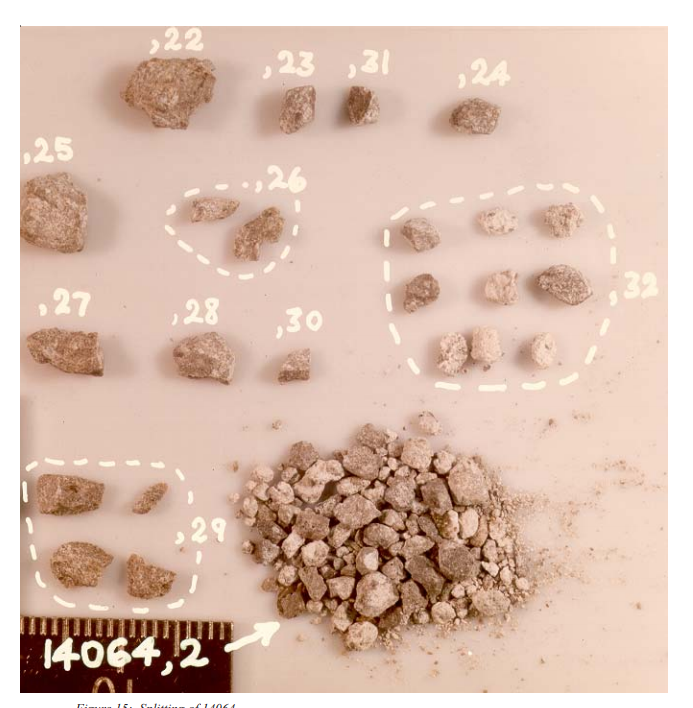Breccia: (257, 415, 545, 653), (375, 191, 618, 378), (35, 458, 202, 605), (182, 170, 305, 289), (26, 311, 126, 415), (132, 58, 250, 144), (21, 154, 92, 262), (268, 65, 329, 162), (262, 328, 353, 392), (172, 316, 242, 395), (346, 83, 391, 145), (448, 104, 512, 134)
